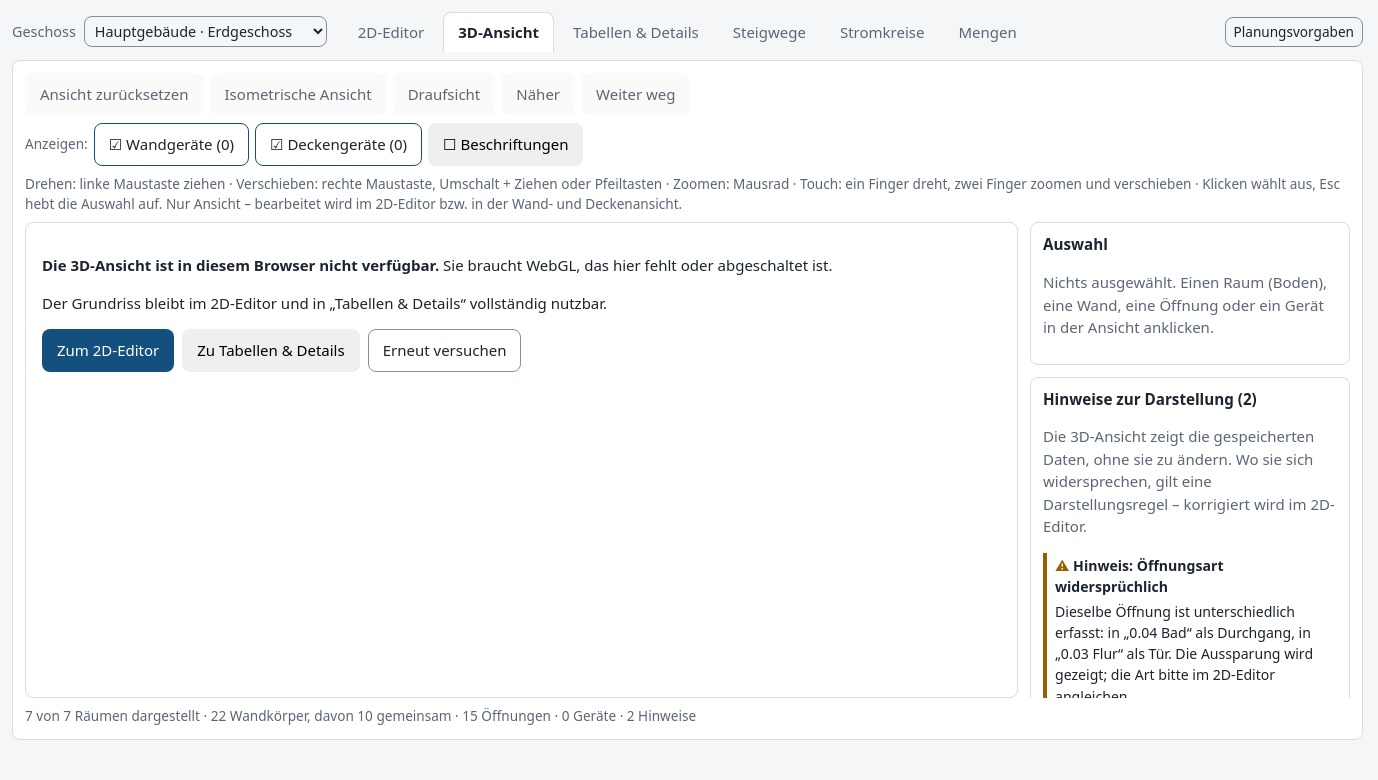
Test: Ansichtswahl › ohne WebGL: Hinweis statt Absturz, Weg zurück zum 2D-Editor
Expected: the text "Die 3D-Ansicht ist in diesem Browser nicht verfügbar." is shown, [42, 255, 439, 275]
Click the button "Zum 2D-Editor": point(108, 351) [42, 329, 174, 372]
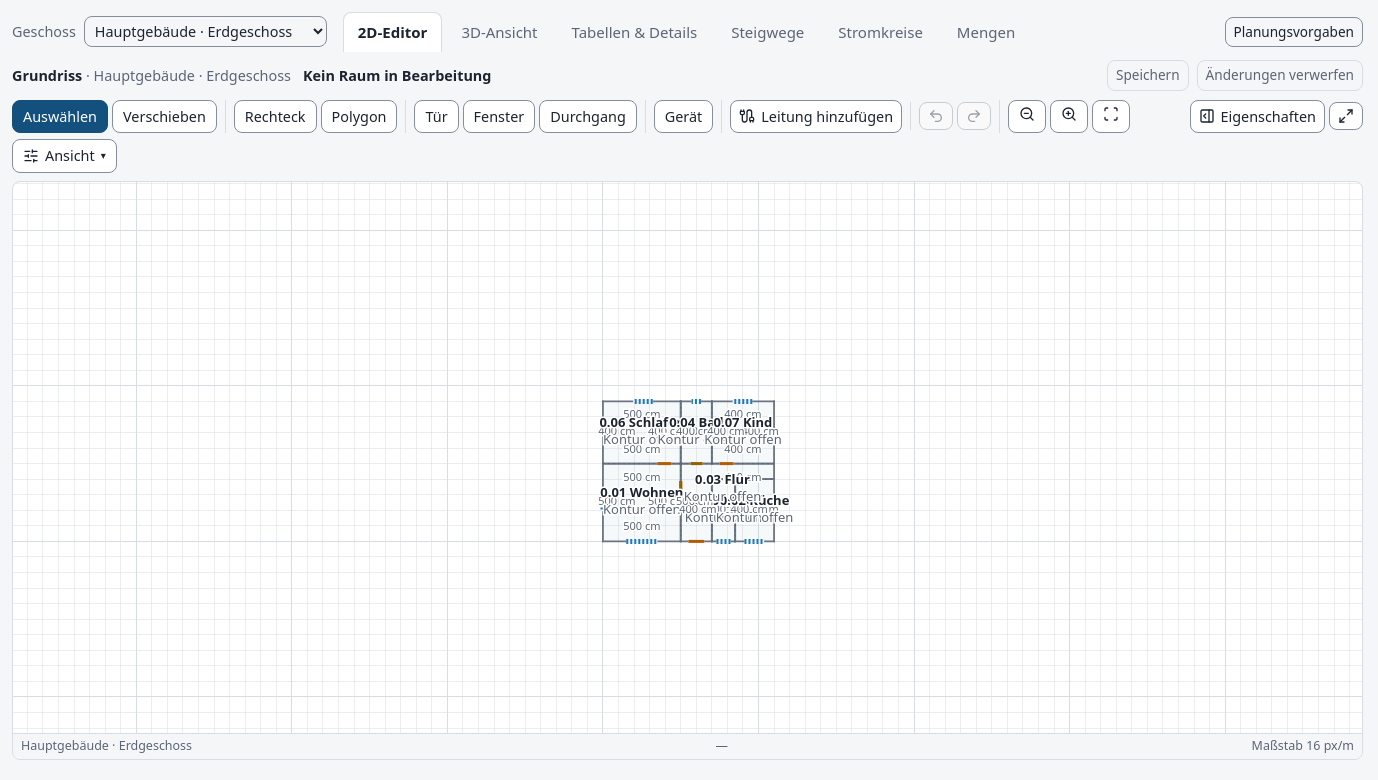
Now the icon named "Grundriss" is shown
